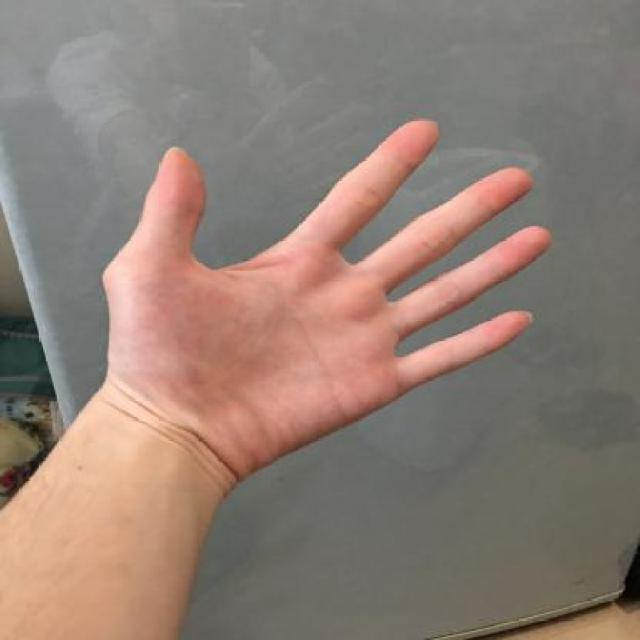bare_hand: (86, 110, 563, 488)
